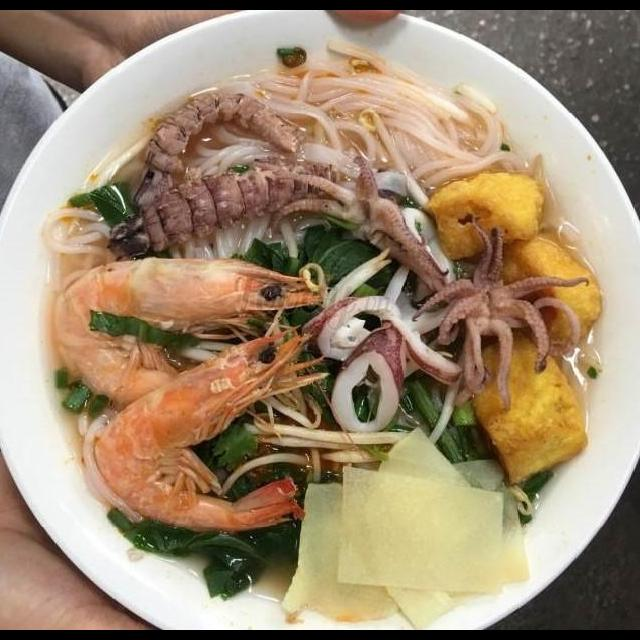bun: (243, 38, 536, 205), (167, 202, 335, 274), (38, 196, 125, 293)
bun hai san: (23, 57, 640, 621)
dau hu: (462, 331, 594, 487), (481, 226, 608, 367), (421, 164, 550, 265)
muc: (296, 209, 468, 438), (409, 216, 595, 416), (263, 137, 462, 311)
tom: (83, 320, 332, 537), (47, 252, 338, 410)
tom tit: (102, 157, 352, 267), (129, 88, 311, 215)
